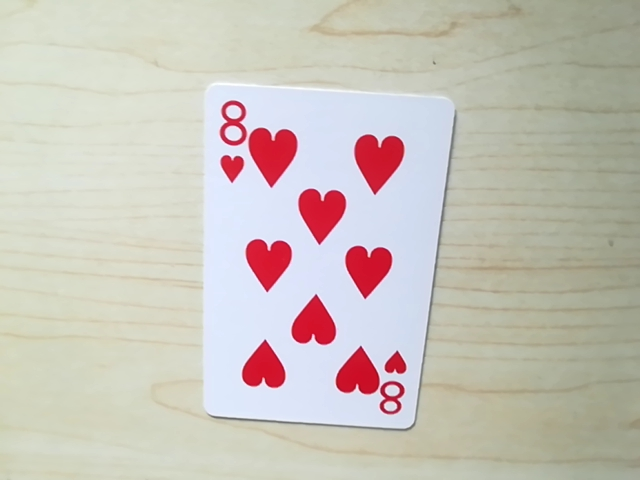hx 8: (367, 373, 412, 423), (210, 93, 251, 146)
